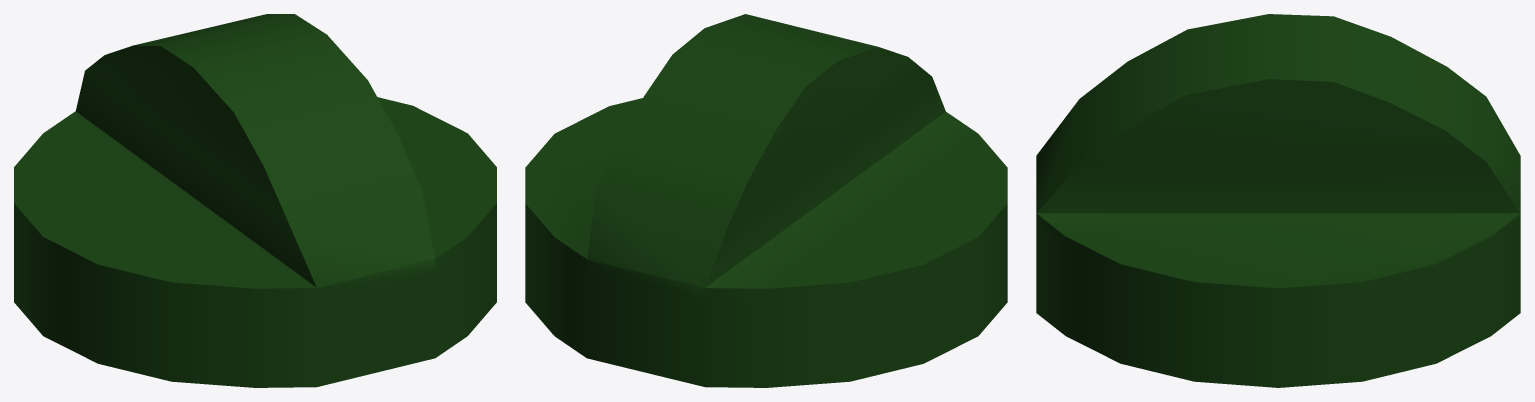
Rendered from valve.fbx.
3 views of the same model, side by side, from view 1: azimuth 30°, elevation 25°; view 2: azimuth 150°, elevation 25°; view 3: azimuth 270°, elevation 25° (orthographic).
Visible parts, largest first — view 1: Cylinder001; view 2: Cylinder001; view 3: Cylinder001.
Part boxes in pixels (box(x1,y1,x2,y2)): Cylinder001: box(14, 14, 496, 387); Cylinder001: box(525, 14, 1007, 387); Cylinder001: box(1036, 14, 1520, 387).
Size of the model in its own units: 29.14 by 15.54 by 28.69.
